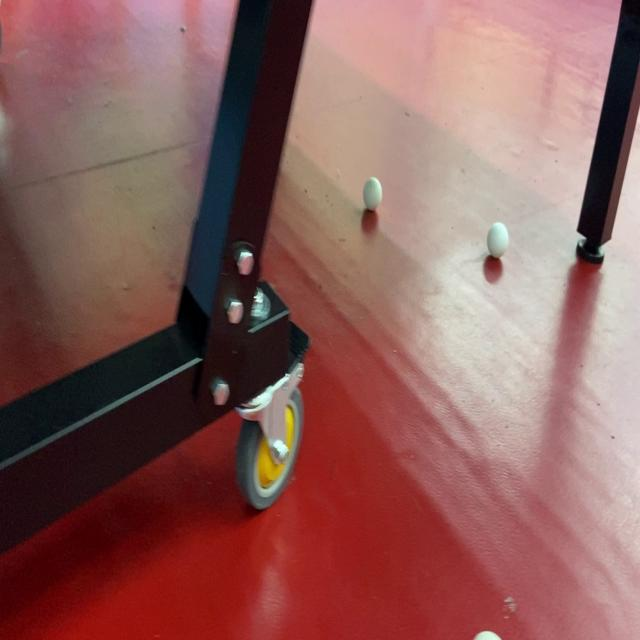ping-pong-ball: (484, 220, 511, 262), (360, 174, 384, 214)
